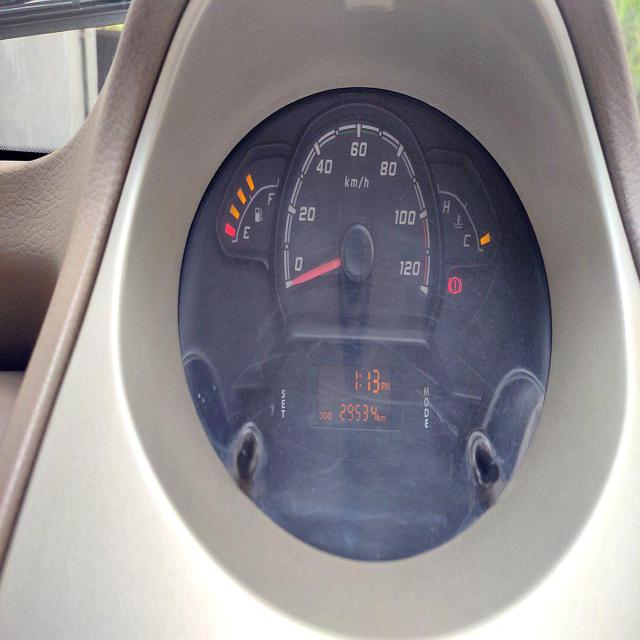odometer: (338, 400, 378, 426)
